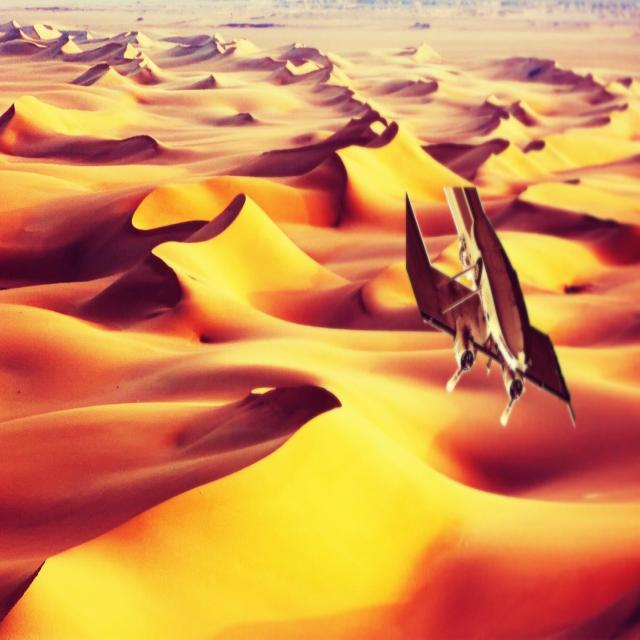airplane: (404, 184, 576, 428)
